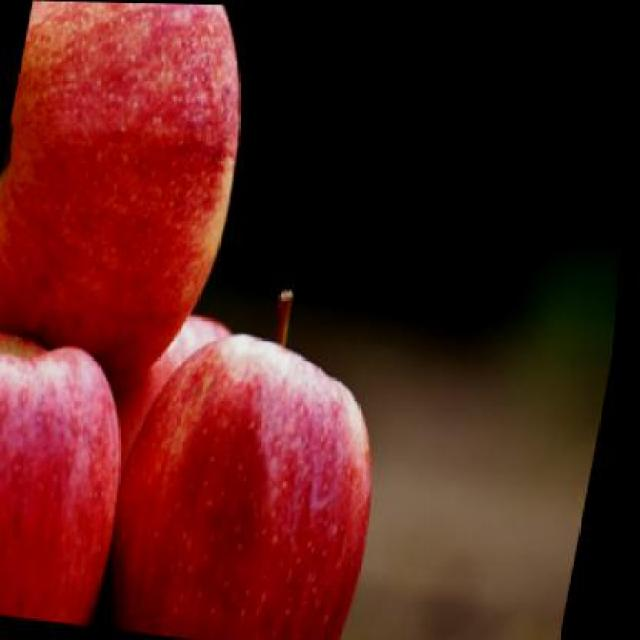Fresh Apple: (0, 0, 254, 391), (121, 337, 395, 640), (0, 350, 125, 632)
